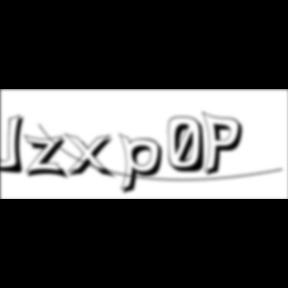0: (168, 115, 212, 174)
J: (0, 114, 32, 176)
P: (202, 110, 248, 180)
p: (119, 132, 169, 198)
x: (64, 132, 119, 181)
z: (23, 134, 72, 182)
